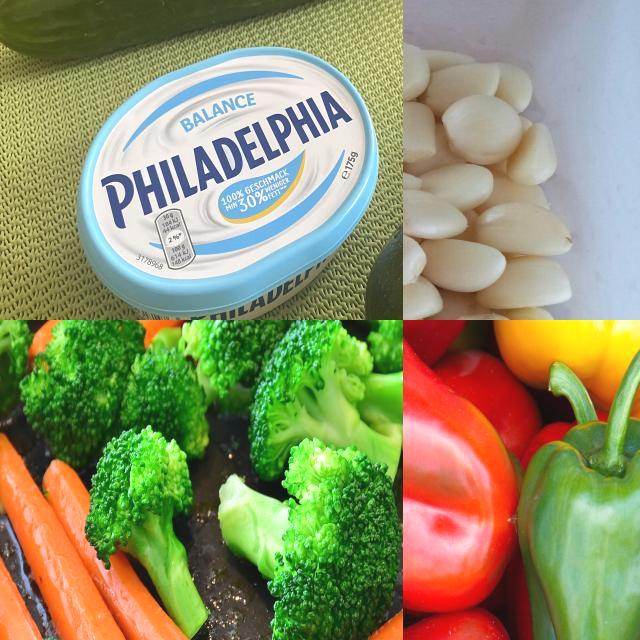bell_pepper: (522, 342, 640, 640), (404, 321, 519, 611)
carrot: (46, 455, 219, 640), (1, 432, 154, 640), (227, 555, 404, 640), (1, 419, 49, 640)
cucumber: (1, 1, 404, 55)
garlic: (404, 20, 584, 321)
